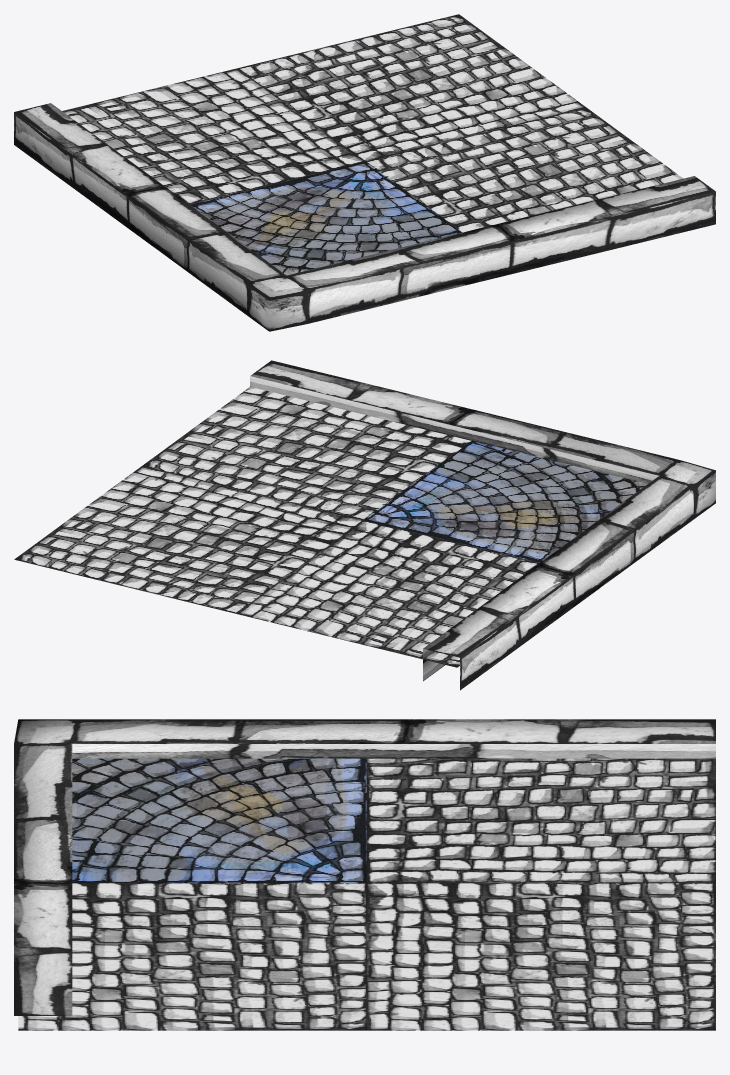
Rendered from Corner01.fbx.
The picture shows the model from 3 angles, top to bottom: view 1: azimuth 30°, elevation 25°; view 2: azimuth 150°, elevation 25°; view 3: azimuth 270°, elevation 25°; orthographic projection. The views are drawn at different scales.
Visible parts, largest first — view 1: Corner_1:Corner; view 2: Corner_1:Corner; view 3: Corner_1:Corner.
Boxes of the visible parts, box(x1,y1,x2,y2) form: Corner_1:Corner: box(14, 14, 715, 331); Corner_1:Corner: box(14, 360, 715, 690); Corner_1:Corner: box(14, 719, 715, 1030).
Bounding box in the file's own units: 8.05 × 0.5669 × 8.05.
